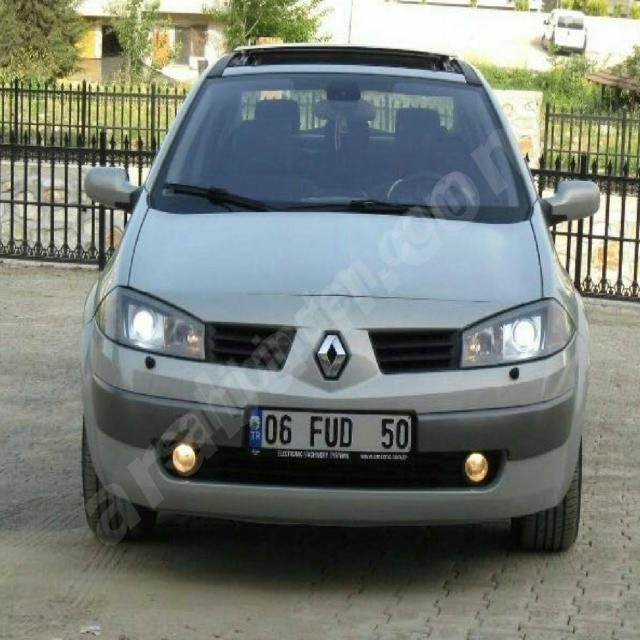license_plate: (246, 407, 413, 454)
